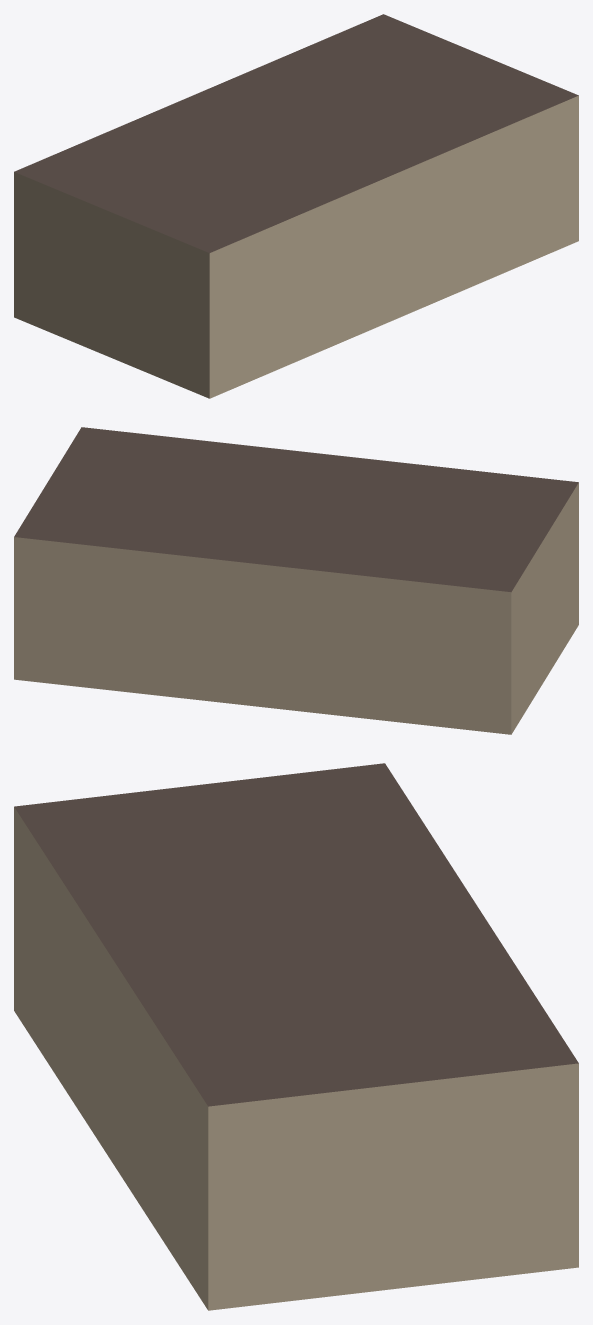
3 renders of one model, top to bottom at view 1: azimuth 30°, elevation 25°; view 2: azimuth 150°, elevation 25°; view 3: azimuth 270°, elevation 25°, orthographic. The views are drawn at different scales.
Visible parts, largest first — view 1: HP-w859424258; view 2: HP-w859424258; view 3: HP-w859424258.
Boxes of the visible parts, box(x1,y1,x2,y2) form: HP-w859424258: box(14, 14, 578, 398); HP-w859424258: box(14, 427, 578, 734); HP-w859424258: box(14, 763, 578, 1310).
Size of the model in its own units: 32.46 by 9 by 22.57.
